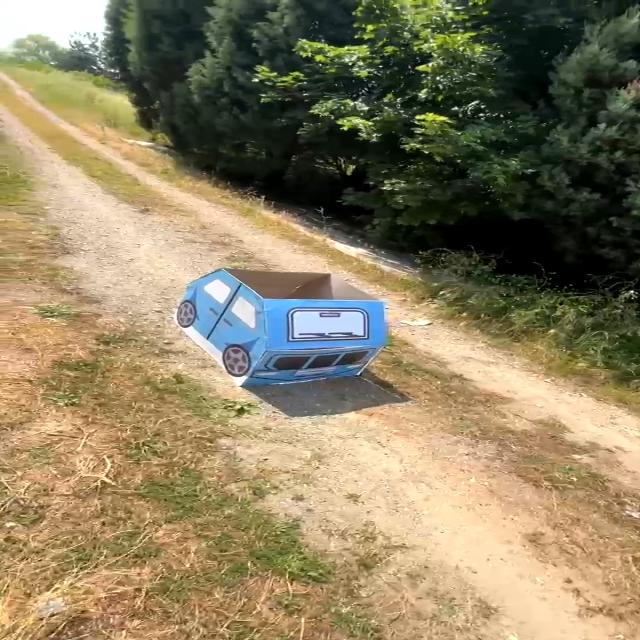blue_car: (152, 255, 402, 389)
